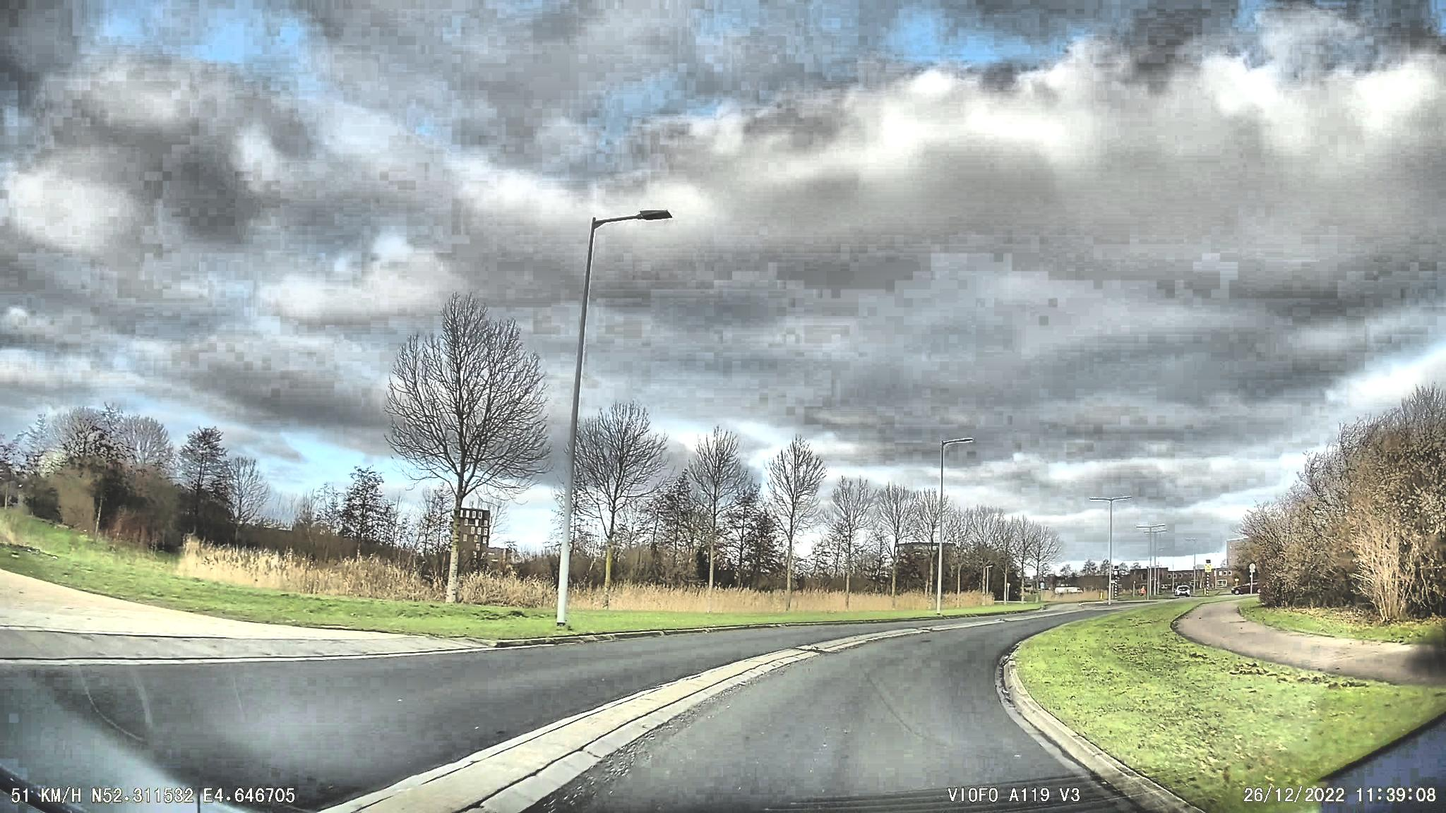Roads: (0, 617, 1193, 813)
